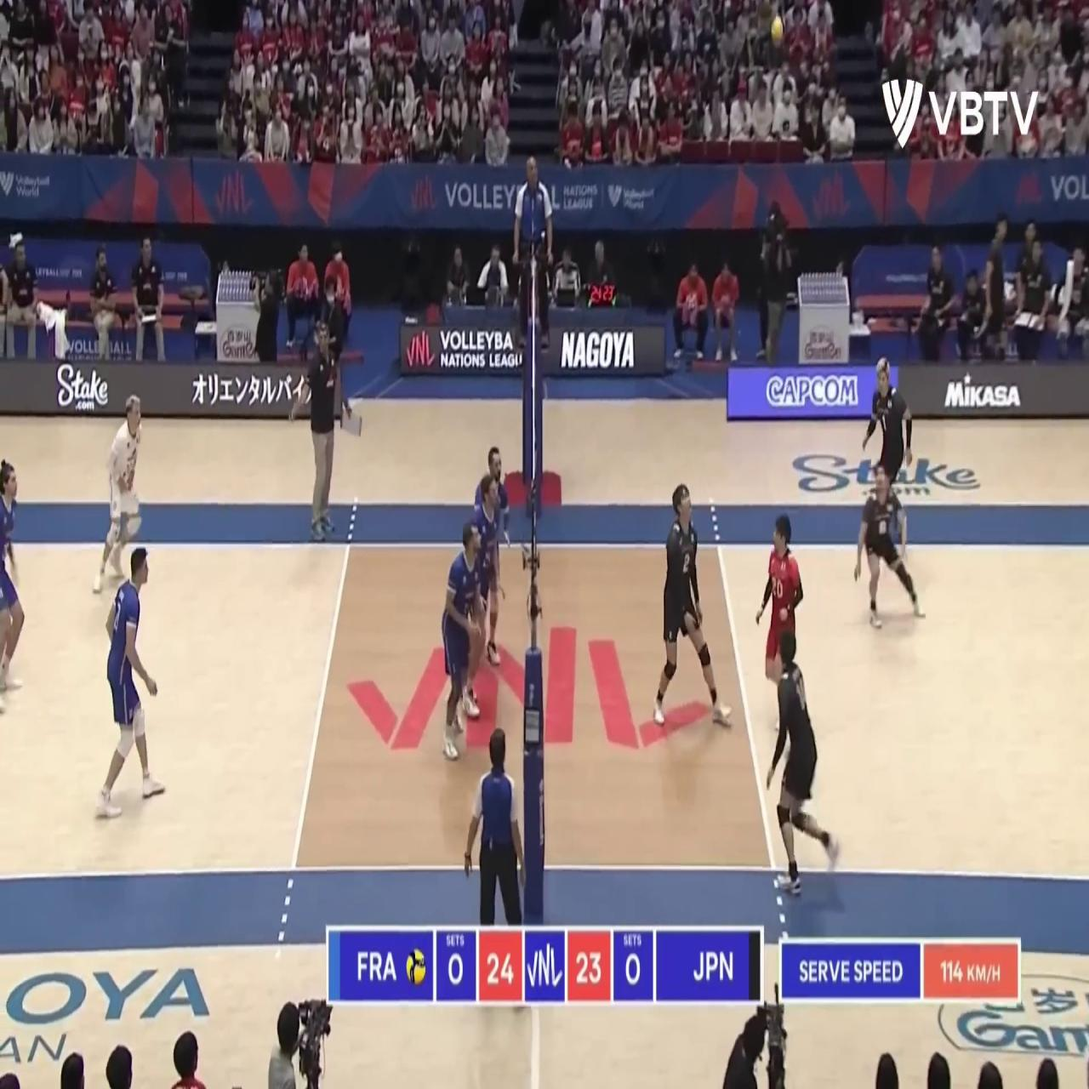ball: (771, 15, 785, 47)
